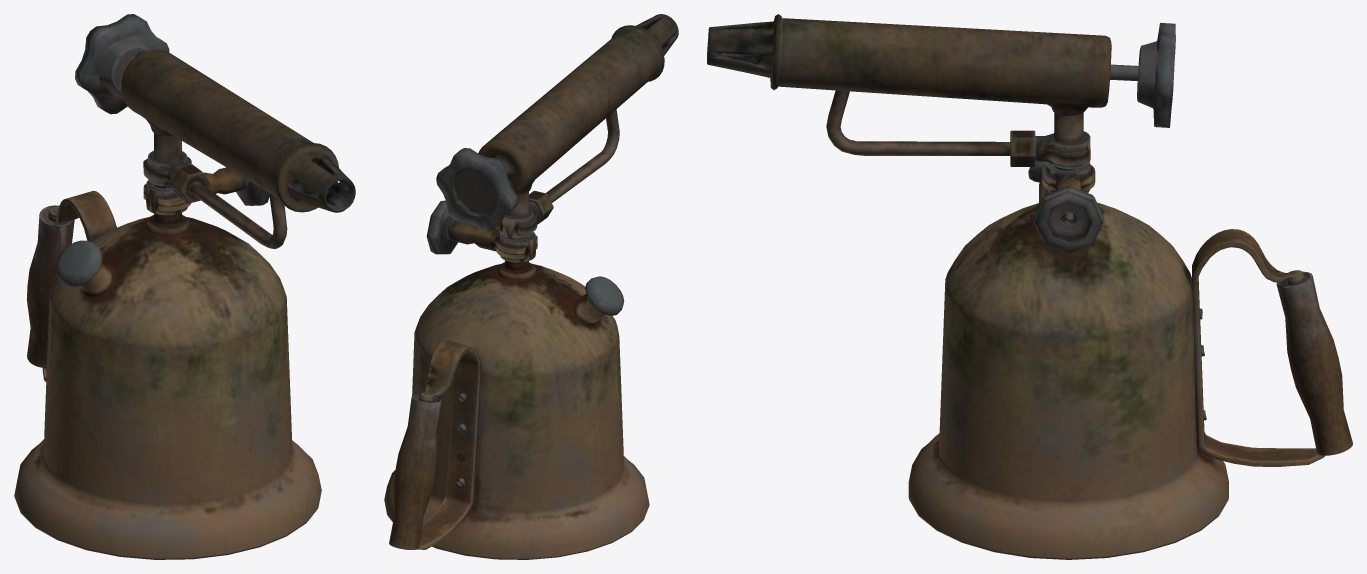
The model's file is brass_blowtorch.glb.
3 renders of one model, left to right at view 1: azimuth 30°, elevation 25°; view 2: azimuth 150°, elevation 25°; view 3: azimuth 270°, elevation 25°, orthographic. The views are drawn at different scales.
Visible parts, largest first — view 1: brass_blowtorch; view 2: brass_blowtorch; view 3: brass_blowtorch.
Boxes of the visible parts, x1=… form: brass_blowtorch: x1=14, y1=14, x2=355, y2=559; brass_blowtorch: x1=384, y1=14, x2=678, y2=559; brass_blowtorch: x1=707, y1=14, x2=1352, y2=559.
Bounding box in the file's own units: 0.1294 × 0.2106 × 0.2593.
1 material, 1 textured.
